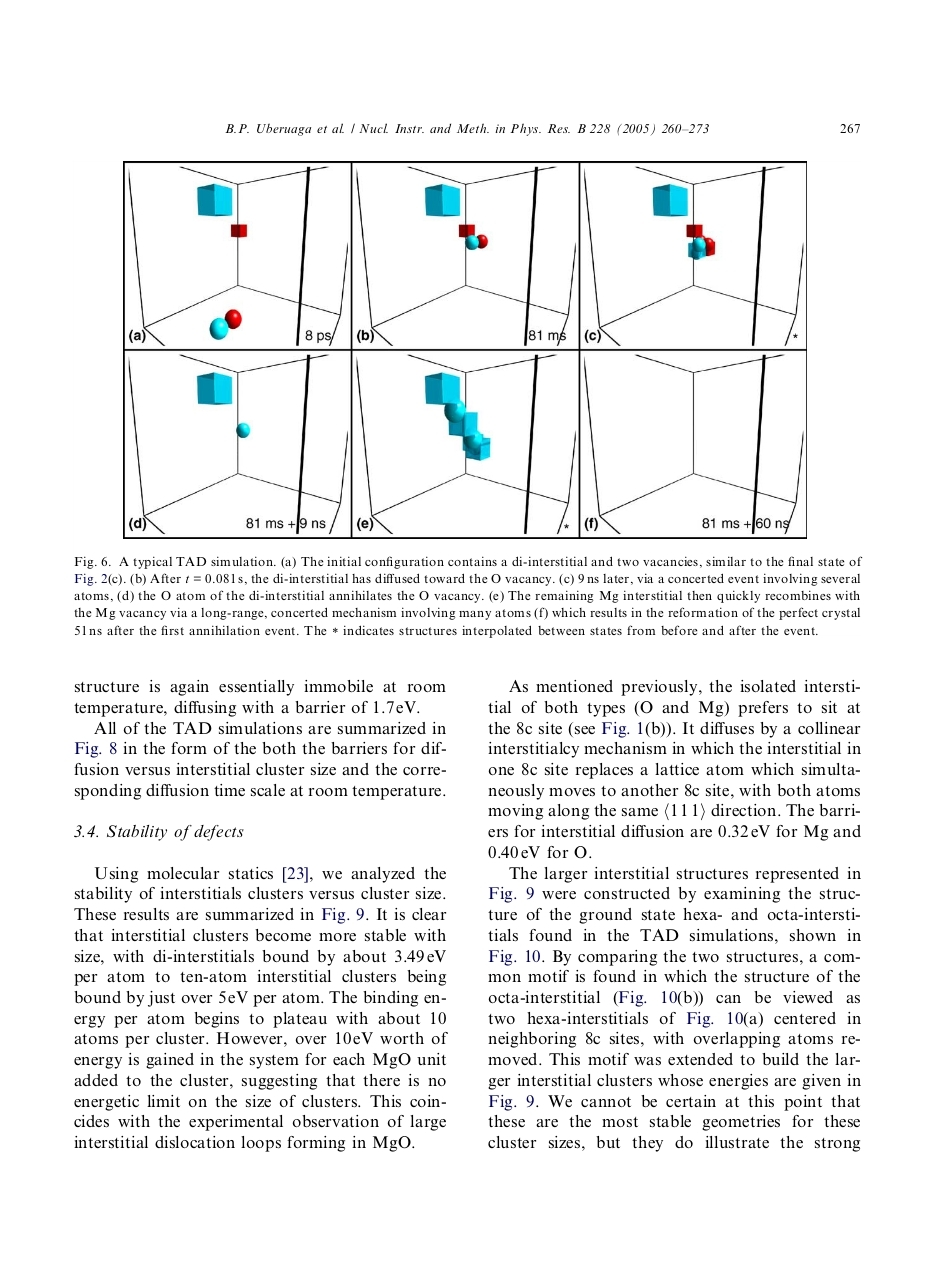figure: (123, 160, 806, 539)
